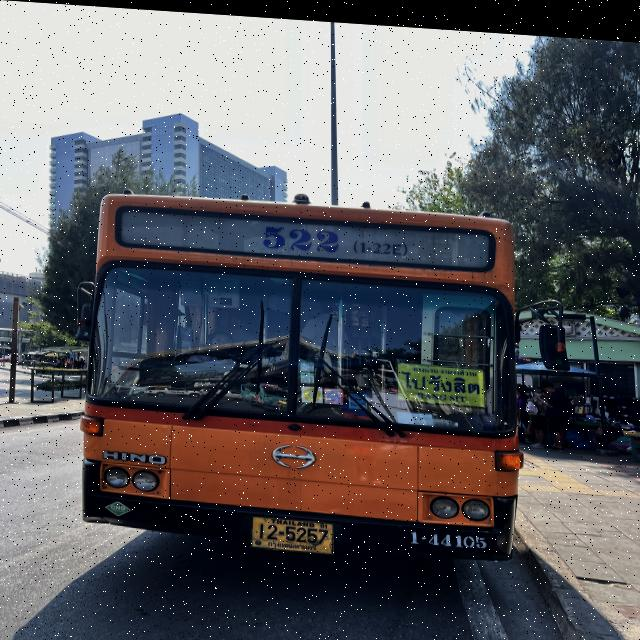BMTA-bus: (80, 188, 524, 565)
Bus-Line-Number: (247, 215, 415, 259)
Destination-Sign-Normal-Expressway: (394, 353, 488, 404)
